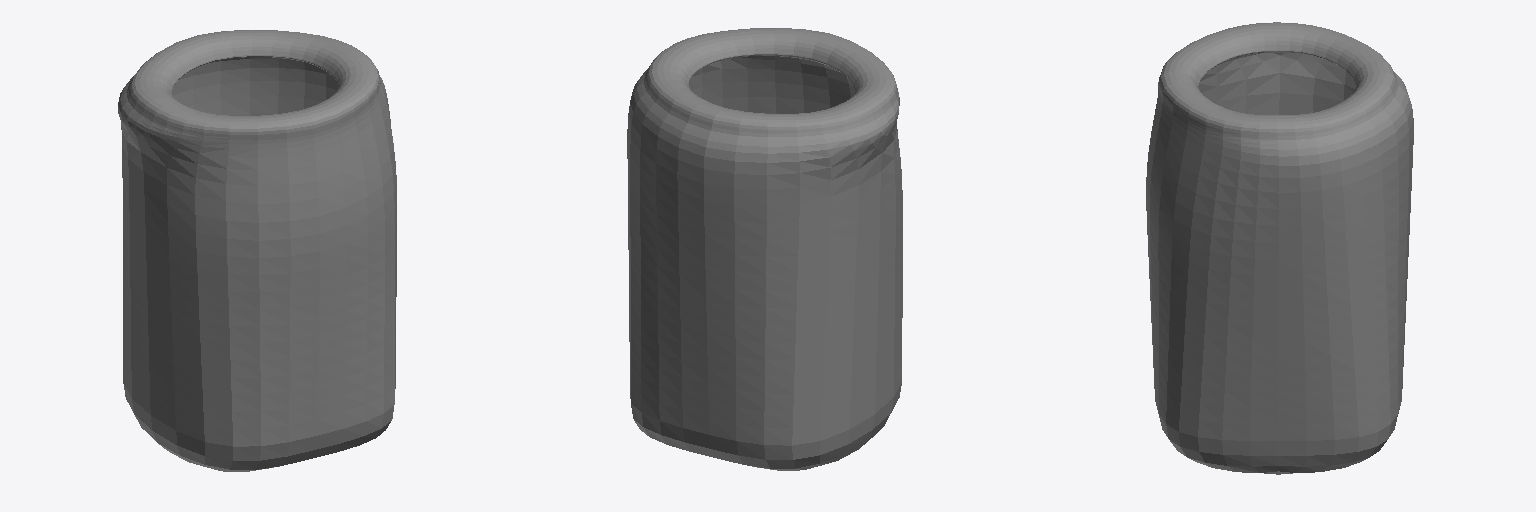
The model's file is bag.obj.
3 renders of one model, left to right at view 1: azimuth 30°, elevation 25°; view 2: azimuth 150°, elevation 25°; view 3: azimuth 270°, elevation 25°, orthographic.
Parts seen in each view (by area): view 1: Bag; view 2: Bag; view 3: Bag.
Part boxes in pixels (left/top/right/bottom): Bag: left=118, top=30, right=396, bottom=471; Bag: left=627, top=28, right=902, bottom=470; Bag: left=1146, top=22, right=1413, bottom=474.
Bounding box in the file's own units: 21.19 × 30.54 × 20.29.